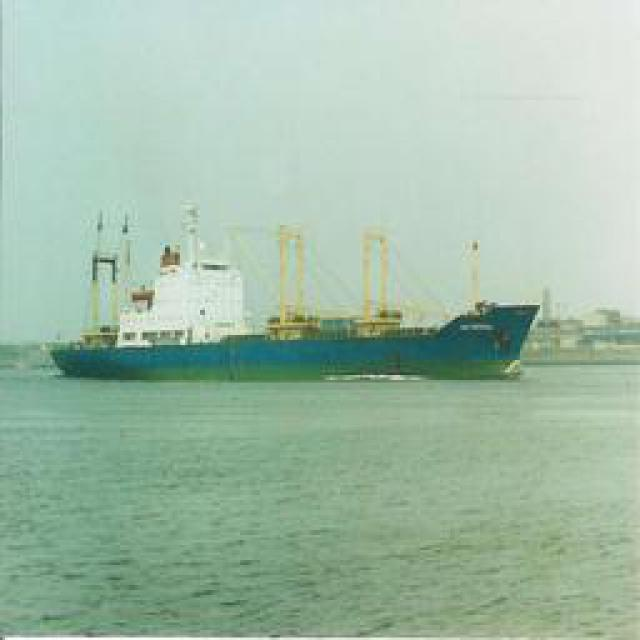Ship: (55, 215, 540, 385)
